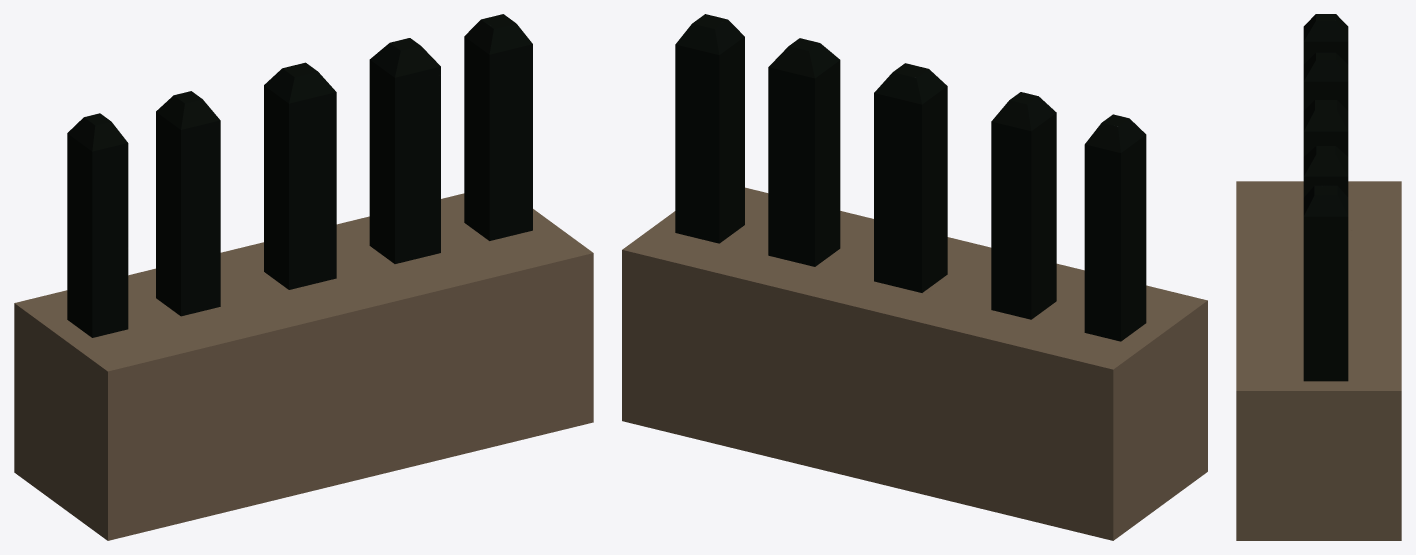
Rendered from PillarSpikes.fbx.
The picture shows the model from 3 angles, left to right: view 1: azimuth 30°, elevation 25°; view 2: azimuth 150°, elevation 25°; view 3: azimuth 270°, elevation 25°; orthographic projection. The views are drawn at different scales.
Visible parts, largest first — view 1: PillarSpikes; view 2: PillarSpikes; view 3: PillarSpikes.
Boxes of the visible parts, box(x1,y1,x2,y2) form: PillarSpikes: box(14, 14, 593, 540); PillarSpikes: box(622, 14, 1207, 540); PillarSpikes: box(1236, 14, 1401, 540).
Bounding box in the file's own units: 3 × 2.21 × 1.
1 material, 1 textured.
